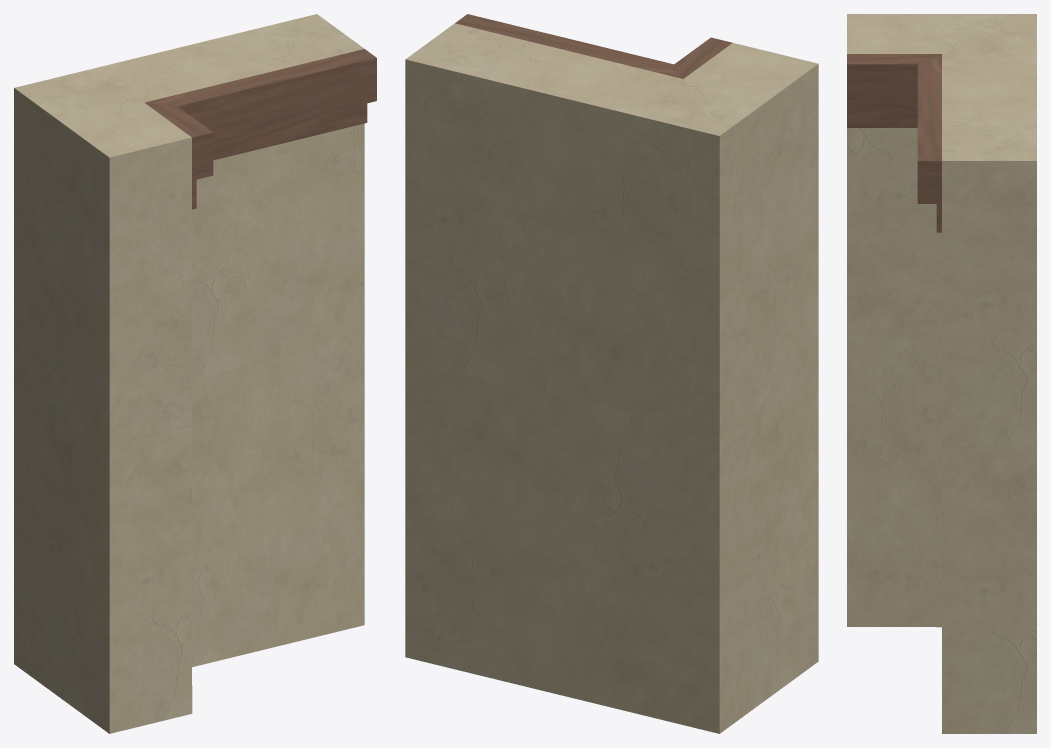
The model's file is LeftCornerWall.obj.
3 views of the same model, side by side, from view 1: azimuth 30°, elevation 25°; view 2: azimuth 150°, elevation 25°; view 3: azimuth 270°, elevation 25° (orthographic). The views are drawn at different scales.
Visible parts, largest first — view 1: Left_Corner_Wall_Tavern_Interior_Atlas; view 2: Left_Corner_Wall_Tavern_Interior_Atlas; view 3: Left_Corner_Wall_Tavern_Interior_Atlas.
Part boxes in pixels (x1,y1,x2,y2): Left_Corner_Wall_Tavern_Interior_Atlas: (14, 14, 376, 733); Left_Corner_Wall_Tavern_Interior_Atlas: (405, 14, 818, 733); Left_Corner_Wall_Tavern_Interior_Atlas: (847, 14, 1036, 733).
Bounding box in the file's own units: 2.2 × 4 × 1.2.
Materials: 1 (1 with a texture image).
